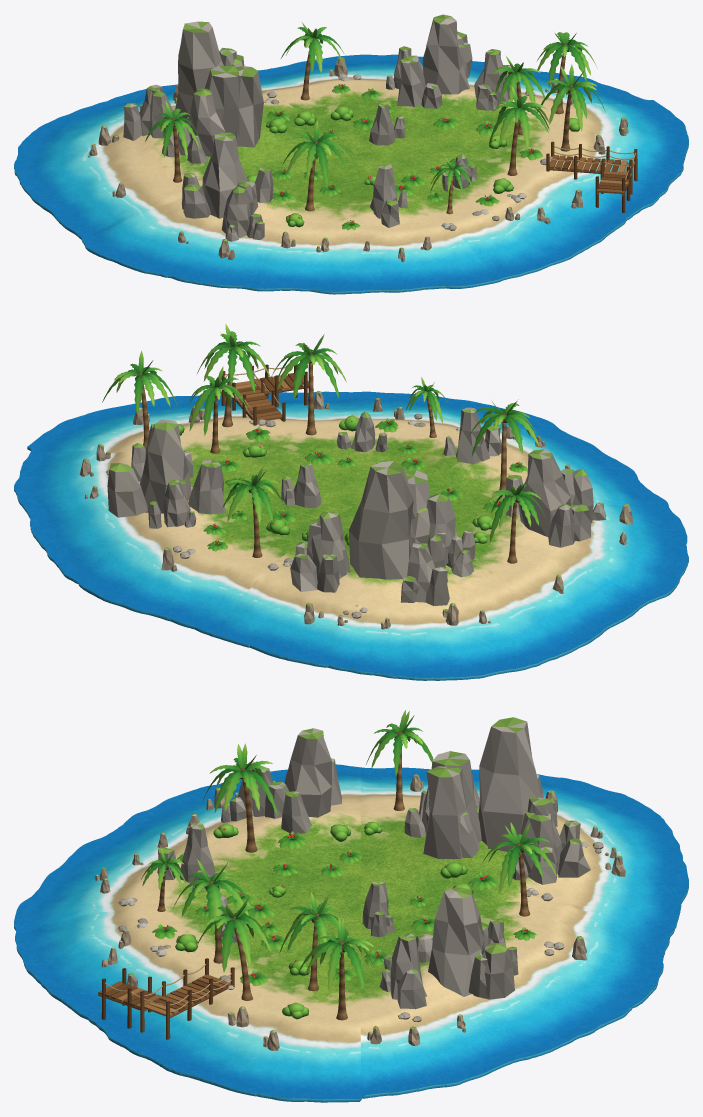
The model's file is Island_Large.obj.
3 renders of one model, top to bottom at view 1: azimuth 30°, elevation 25°; view 2: azimuth 150°, elevation 25°; view 3: azimuth 270°, elevation 25°, orthographic. The views are drawn at different scales.
Parts seen in each view (by area): view 1: Island_Large_Island_Large_Terrain, Island_Large_Palette; view 2: Island_Large_Island_Large_Terrain, Island_Large_Palette; view 3: Island_Large_Island_Large_Terrain, Island_Large_Palette.
Part boxes in pixels (x1,y1,x2,y2): Island_Large_Island_Large_Terrain: [14, 54, 688, 291]; Island_Large_Palette: [14, 14, 688, 294]; Island_Large_Island_Large_Terrain: [14, 391, 688, 677]; Island_Large_Palette: [14, 324, 688, 680]; Island_Large_Island_Large_Terrain: [14, 764, 688, 1099]; Island_Large_Palette: [14, 710, 688, 1102].
Bounding box in the file's own units: 23.7 × 4.91 × 20.17.
2 materials, 2 textured.
